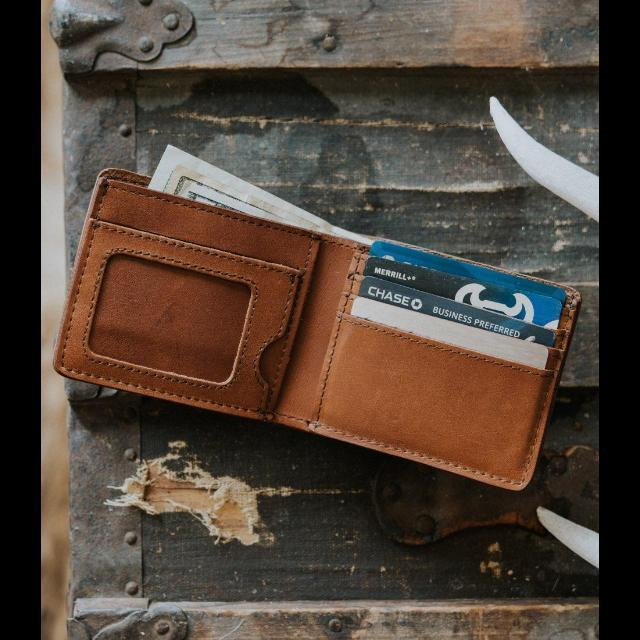wallet: (50, 155, 578, 502)
